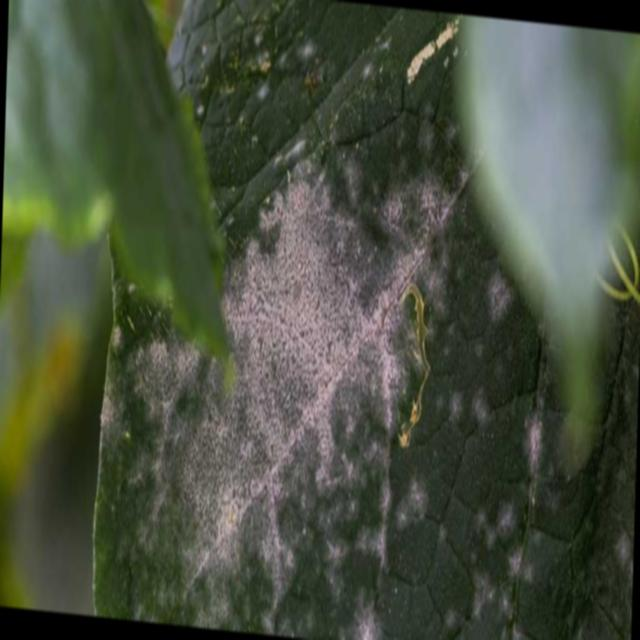Powdery Mildew: (95, 147, 469, 634)
